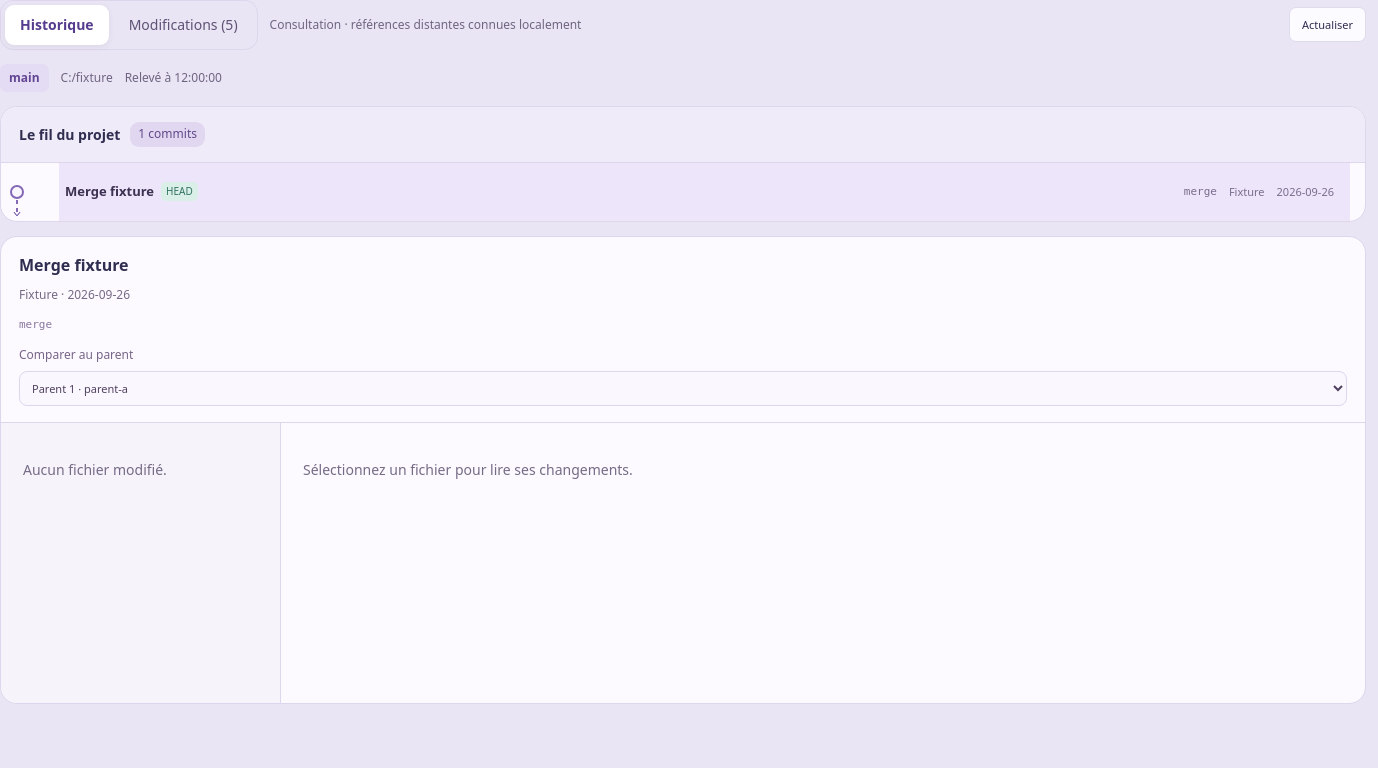
a late diff never replaces the newly selected file
Expected: the heading "Merge fixture" is shown, [19,254,129,276]
What coordinates should you click on to do the following:
click the tab "Modifications (5)"
I would click on:
 (183, 25)
Its box is [114,5,253,45].
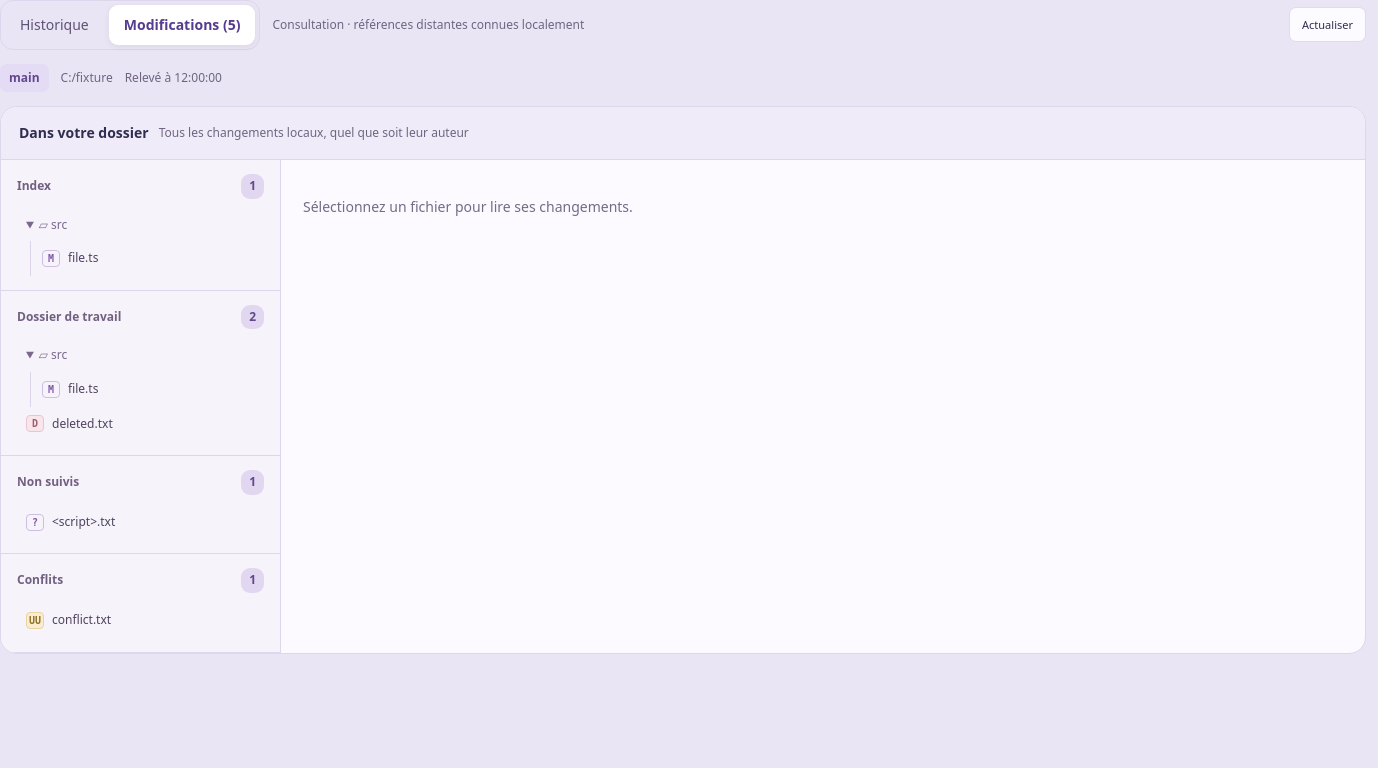
What coordinates should you click on to do the following:
click the button "? <script>.txt"
I would click on:
 (146, 522)
Its box is [21,505,272,539].
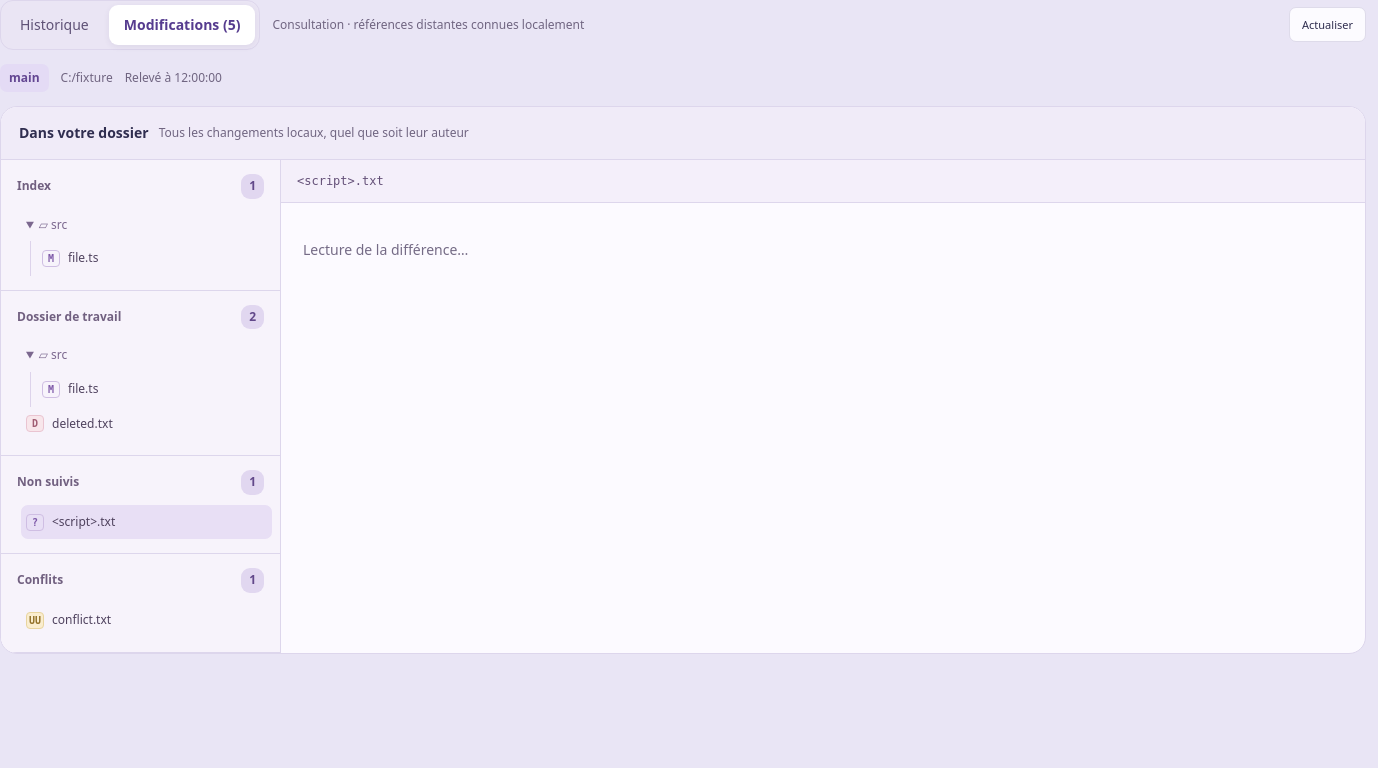
What coordinates should you click on to do the following:
click the button "D deleted.txt"
I would click on:
 (146, 424)
Its box is [21,406,272,441].
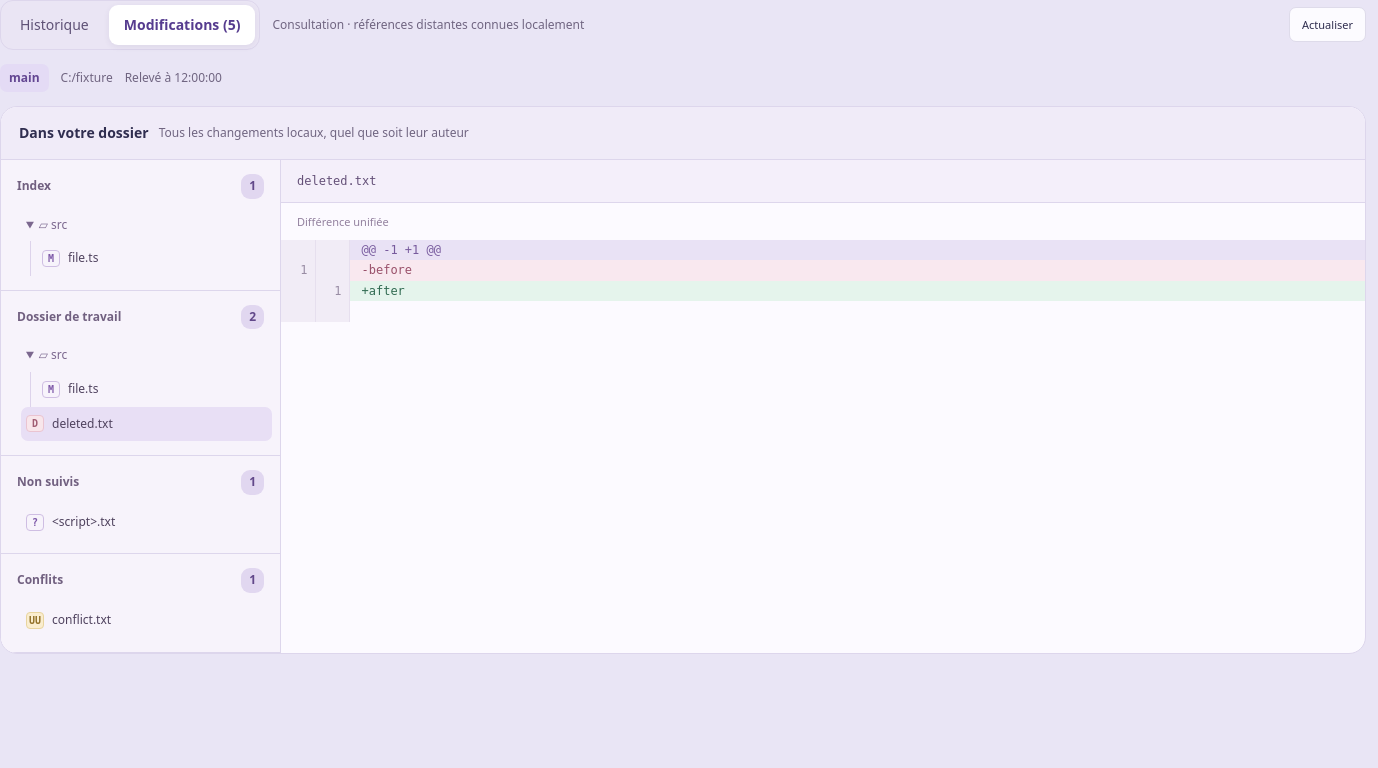
Now the text "+after" is shown, box [362,284,405,298]
